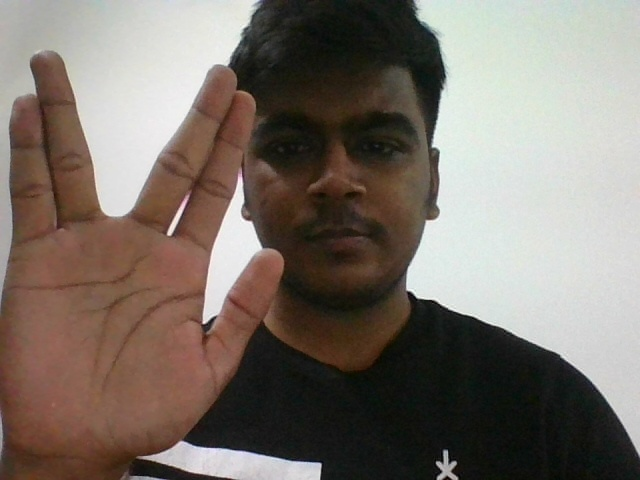livelong: (8, 48, 281, 438)
